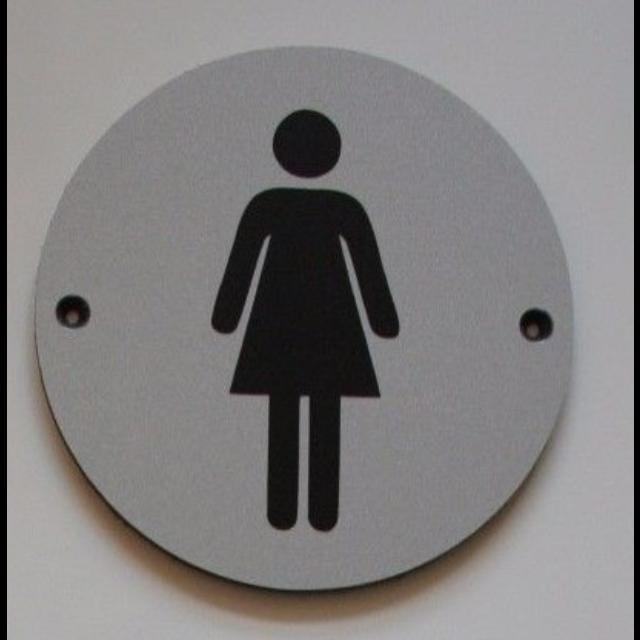womens_restroom: (32, 48, 572, 591)
